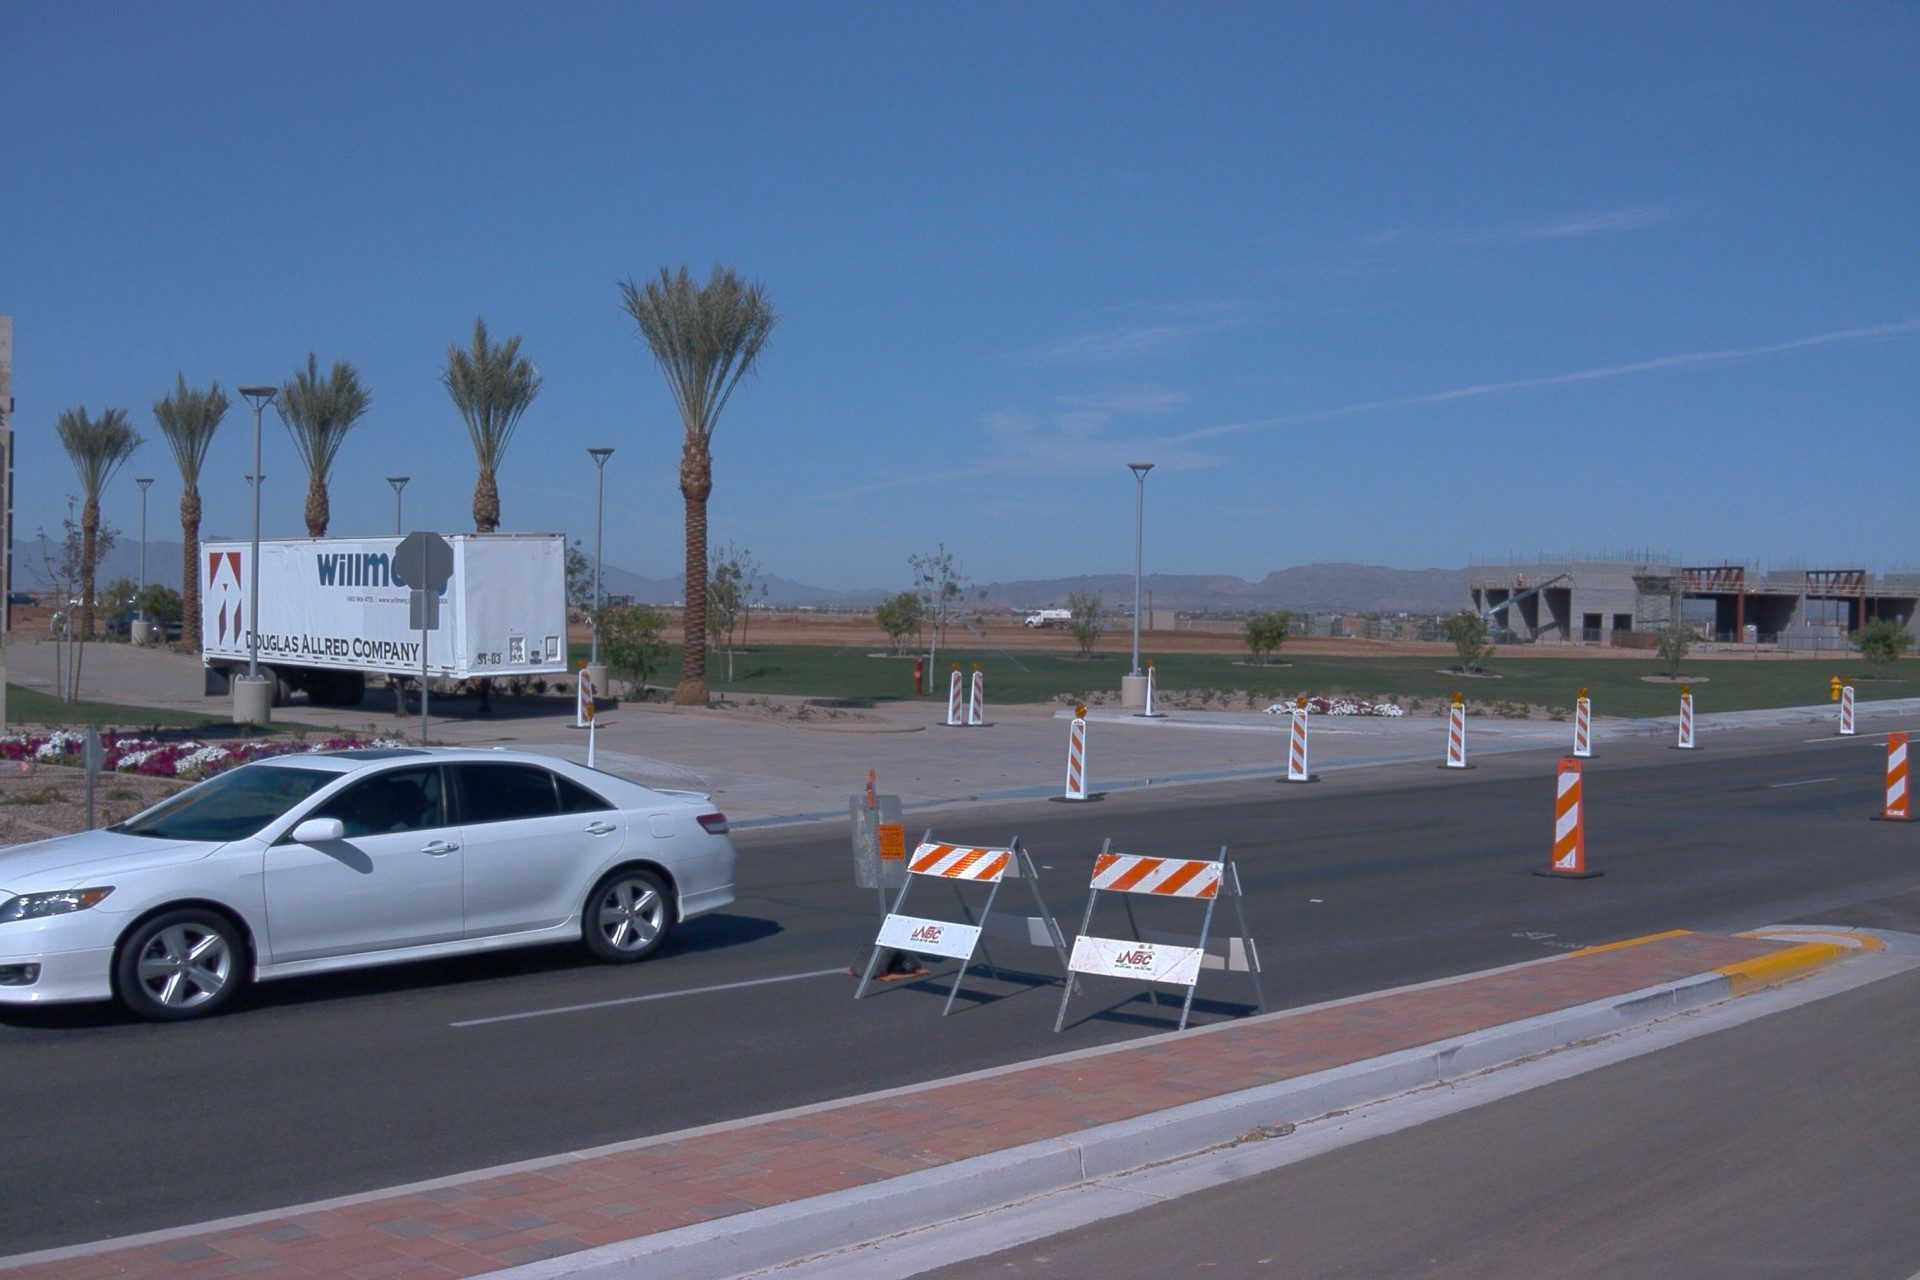TYPE_PEDESTRIAN: (47, 611, 69, 638)
TYPE_VEHICLE: (0, 742, 742, 1025), (199, 526, 581, 710), (1478, 569, 1575, 631), (103, 603, 185, 646), (1022, 608, 1078, 629), (63, 592, 99, 605), (112, 592, 135, 605)
